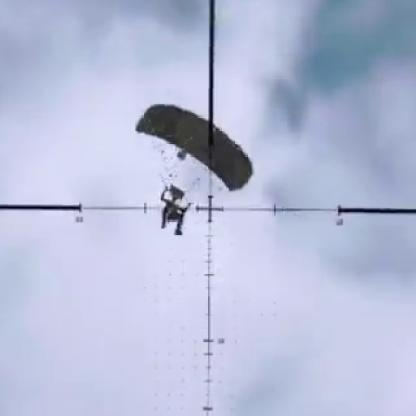enemy: (157, 185, 190, 235)
